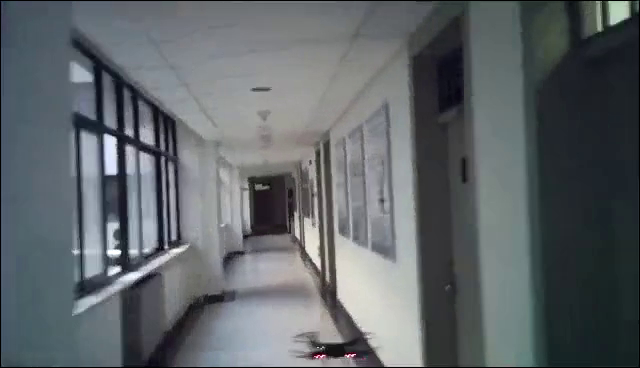drone: (288, 328, 382, 361)
